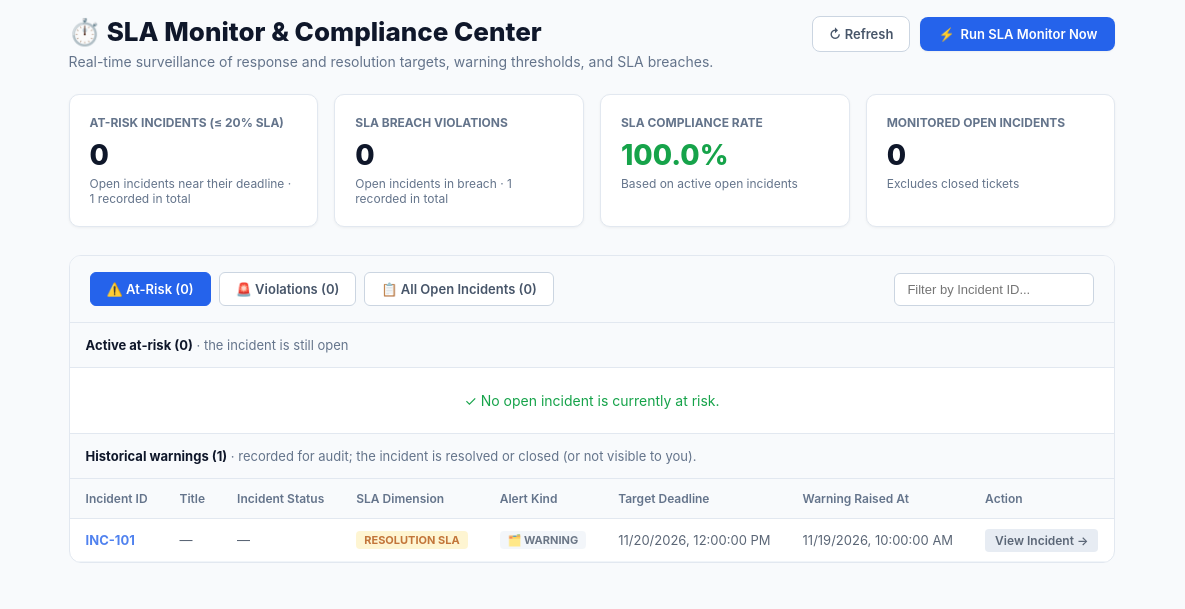
Test: SlaMonitorPage › shows a positive message when every recorded breach belongs to a resolved incident
This screenshot has width=1185, height=609.
expect the heading "⏱️ SLA Monitor & Compliance Center" is shown: met, box [69,16,542,47]
Click the button "🚨 Violations (0)": (287, 289) [219,272,356,306]
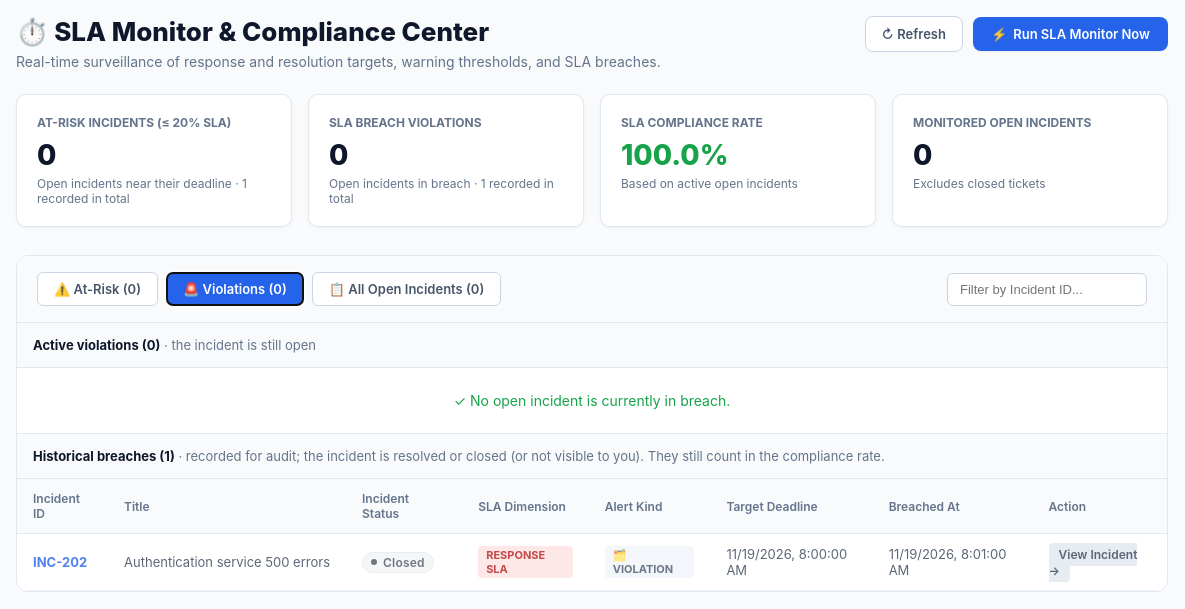
expect the text "Active violations (0)" is shown: met, box [33,337,160,353]
expect the text "✓ No open incident is currently in breach." is shown: met, box [454,392,730,409]
expect the text "Historical breaches (1)" is shown: met, box [33,448,175,464]
